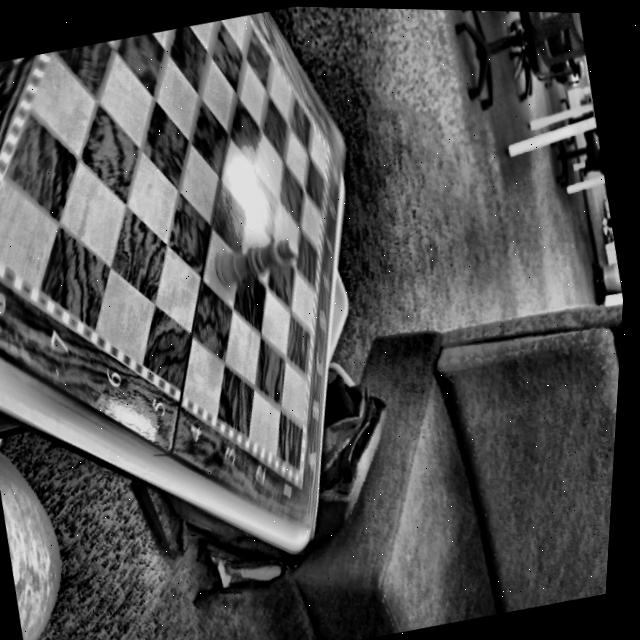white-king: (215, 239, 298, 283)
